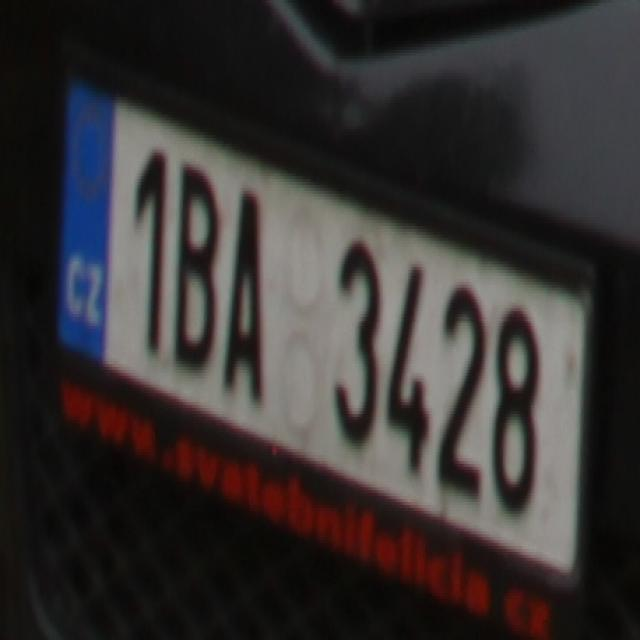1: (134, 150, 168, 361)
2: (434, 279, 488, 508)
3: (330, 235, 376, 443)
4: (389, 256, 433, 478)
8: (494, 306, 540, 526)
A: (220, 182, 270, 402)
B: (172, 158, 219, 382)
